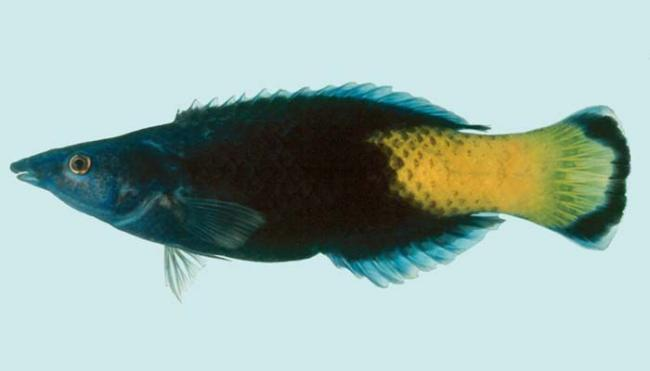fish: (10, 81, 634, 304)
